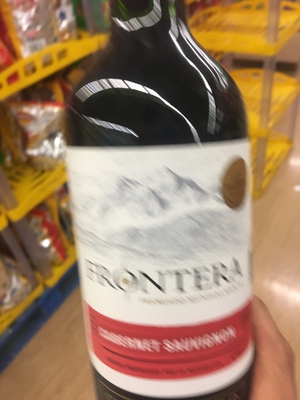frontera cabernet sauvignon: (67, 12, 282, 400)
